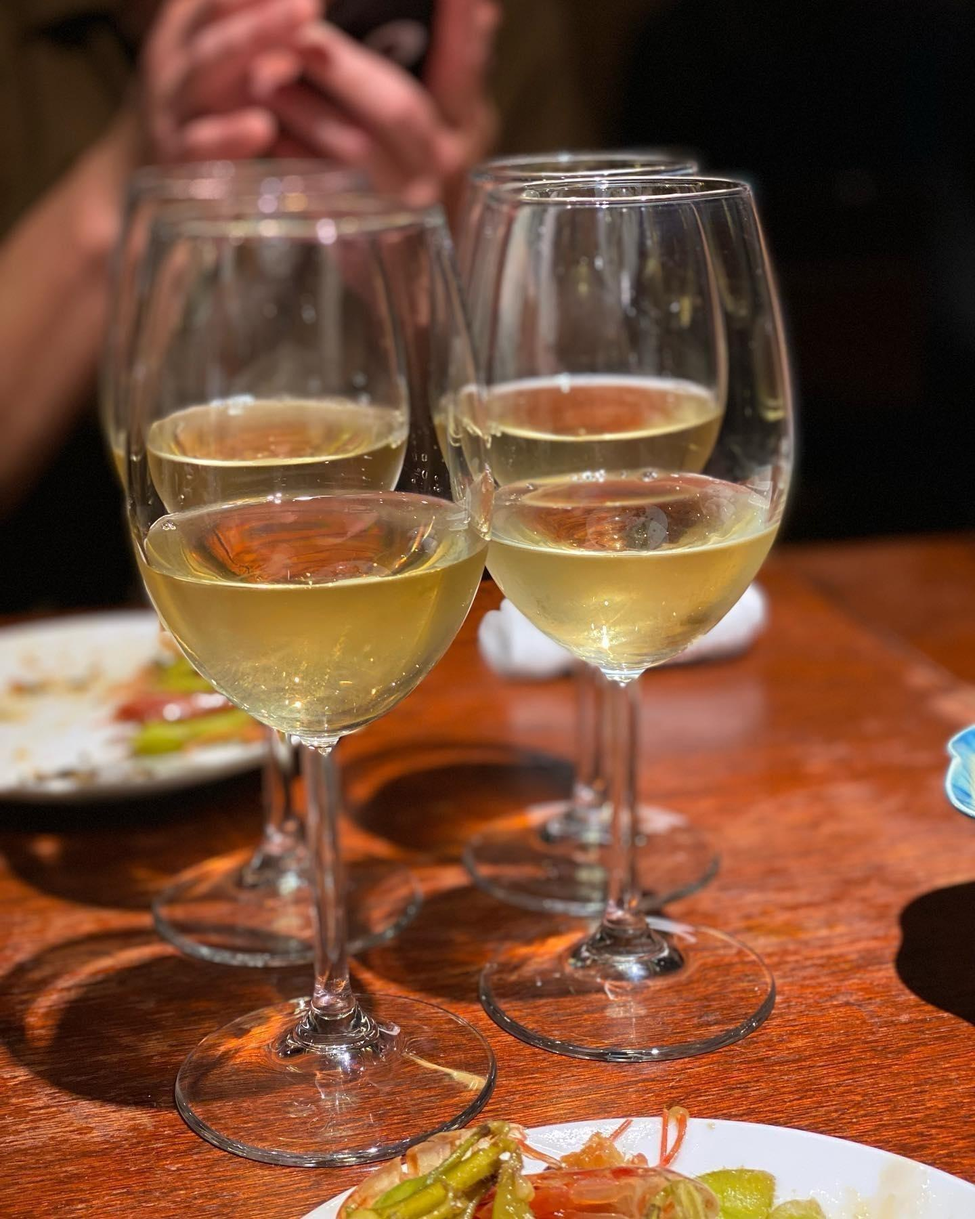glass-wine: (109, 192, 547, 1166), (453, 161, 811, 1071)
